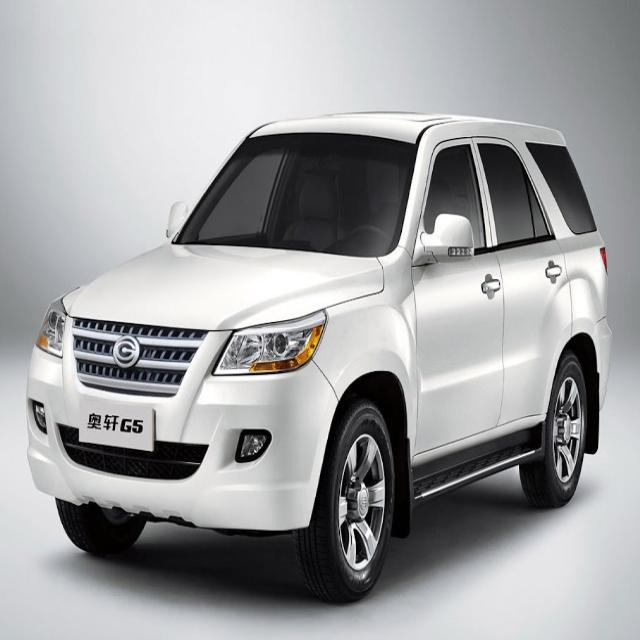door: (475, 135, 574, 441)
front_bumper: (27, 344, 338, 536)
front_glass: (180, 131, 420, 254)
front_left_side_door: (408, 128, 508, 486)
front_left_side_light: (210, 307, 329, 378)
front_left_side_mirror: (419, 212, 476, 266)
front_right_side_light: (36, 292, 70, 362)
front_right_side_mirror: (168, 198, 187, 244)
wheel: (311, 405, 396, 600), (526, 354, 586, 505)
